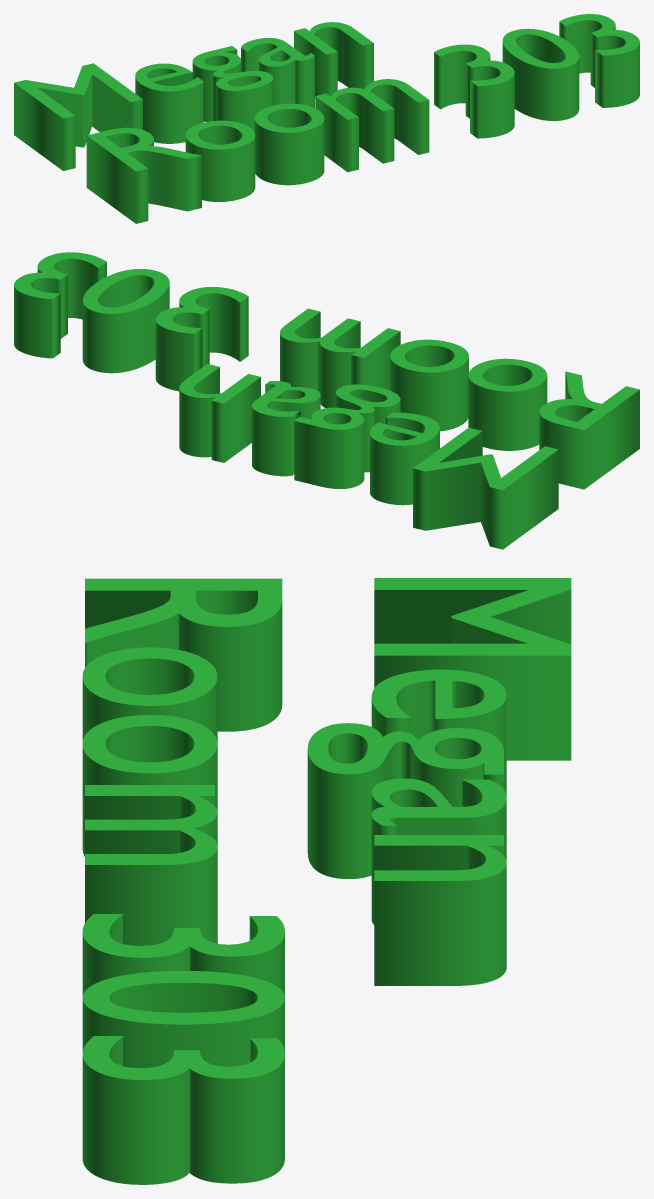
File: Megan-303.gltf
3 views of the same model, one above another, from view 1: azimuth 30°, elevation 25°; view 2: azimuth 150°, elevation 25°; view 3: azimuth 270°, elevation 25° (orthographic). The views are drawn at different scales.
Parts seen in each view (by area): view 1: Text; view 2: Text; view 3: Text.
Boxes of the visible parts, bbox=[...] form: Text: bbox=[14, 14, 639, 223]; Text: bbox=[14, 252, 639, 549]; Text: bbox=[82, 578, 571, 1184].
Size of the model in its own units: 4.11 by 0.4 by 1.69.
